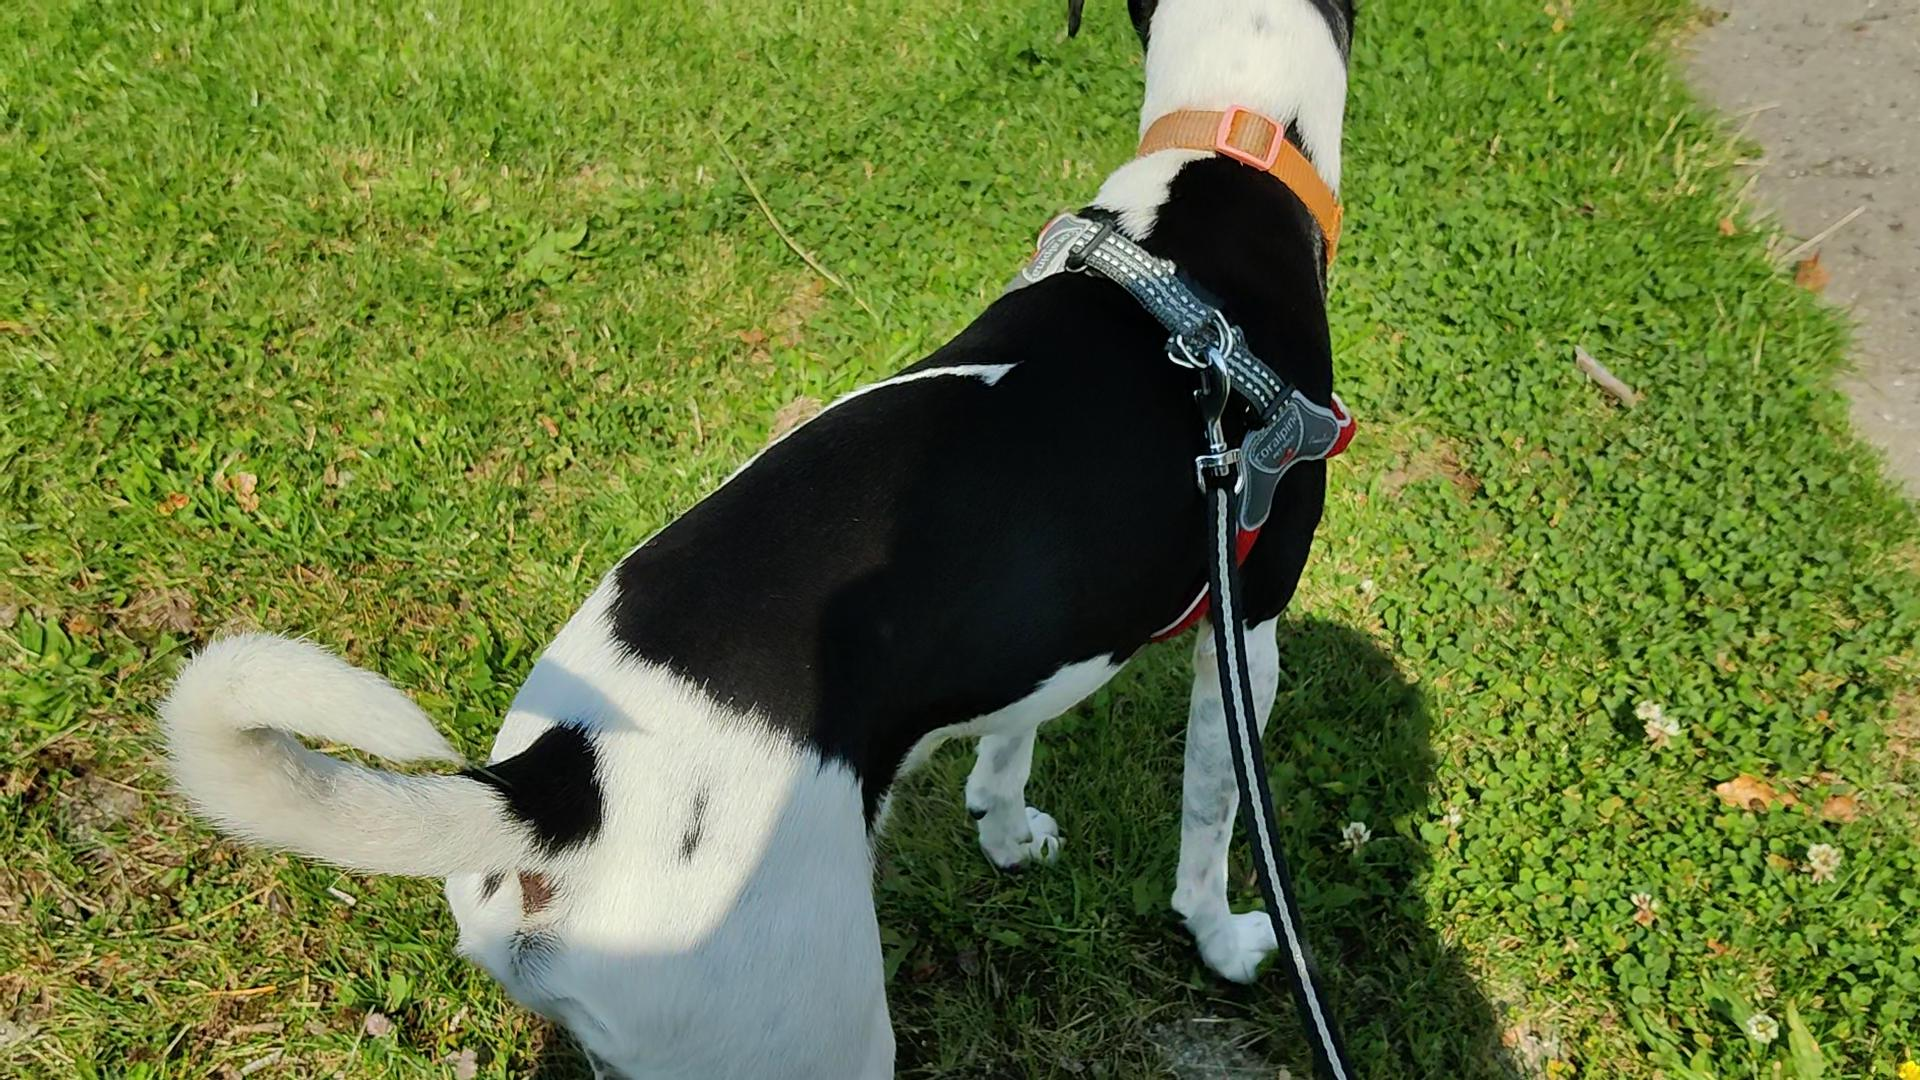Dog: (156, 0, 1360, 1079)
